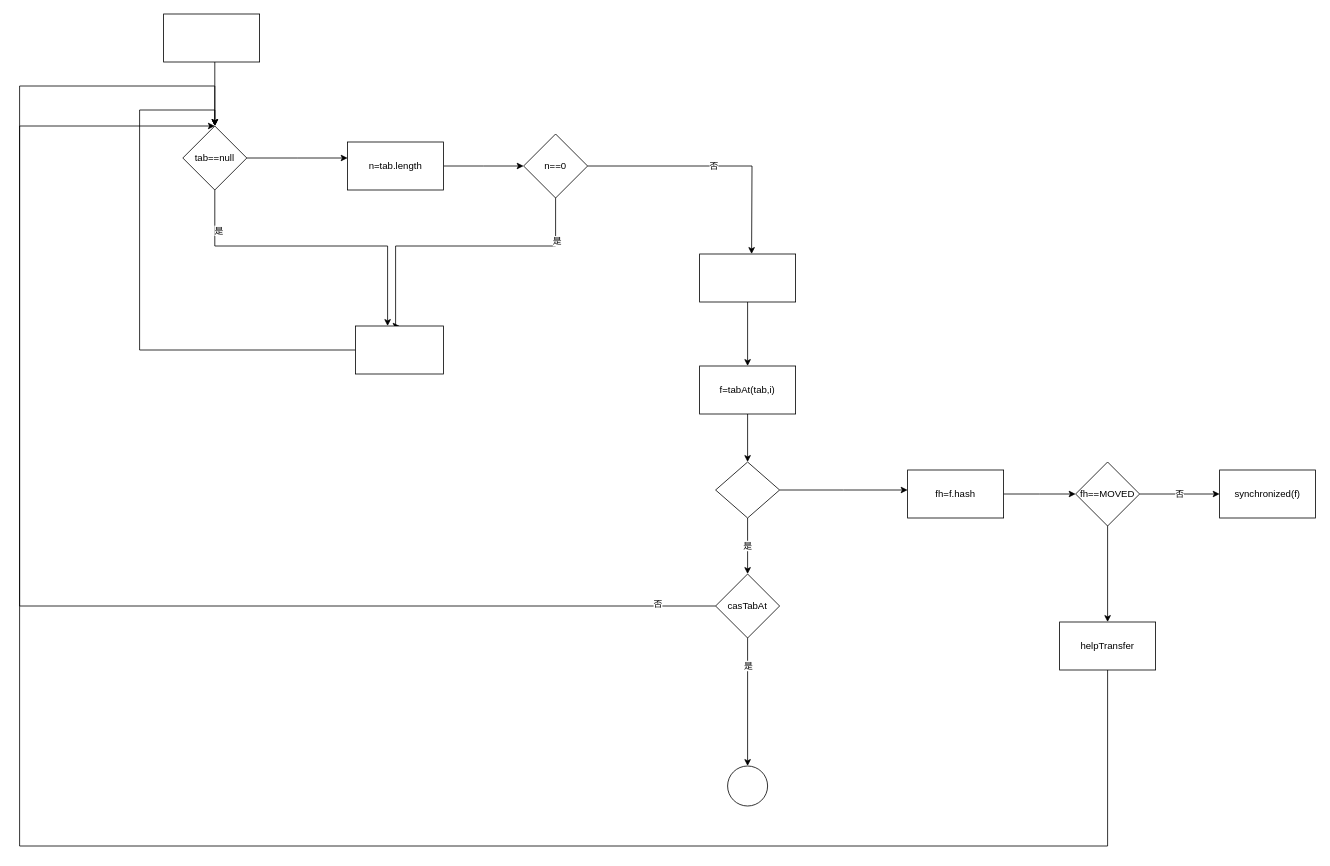
Image size: 1330x866. Some labels were removed from this diagram. The centre of each missing label's shape, as x and y in pixels:
f==null: the point at 747,489
i=(n-1)&hash: the point at 747,277
tab=initTable(): the point at 399,349
tab=table: the point at 211,37
